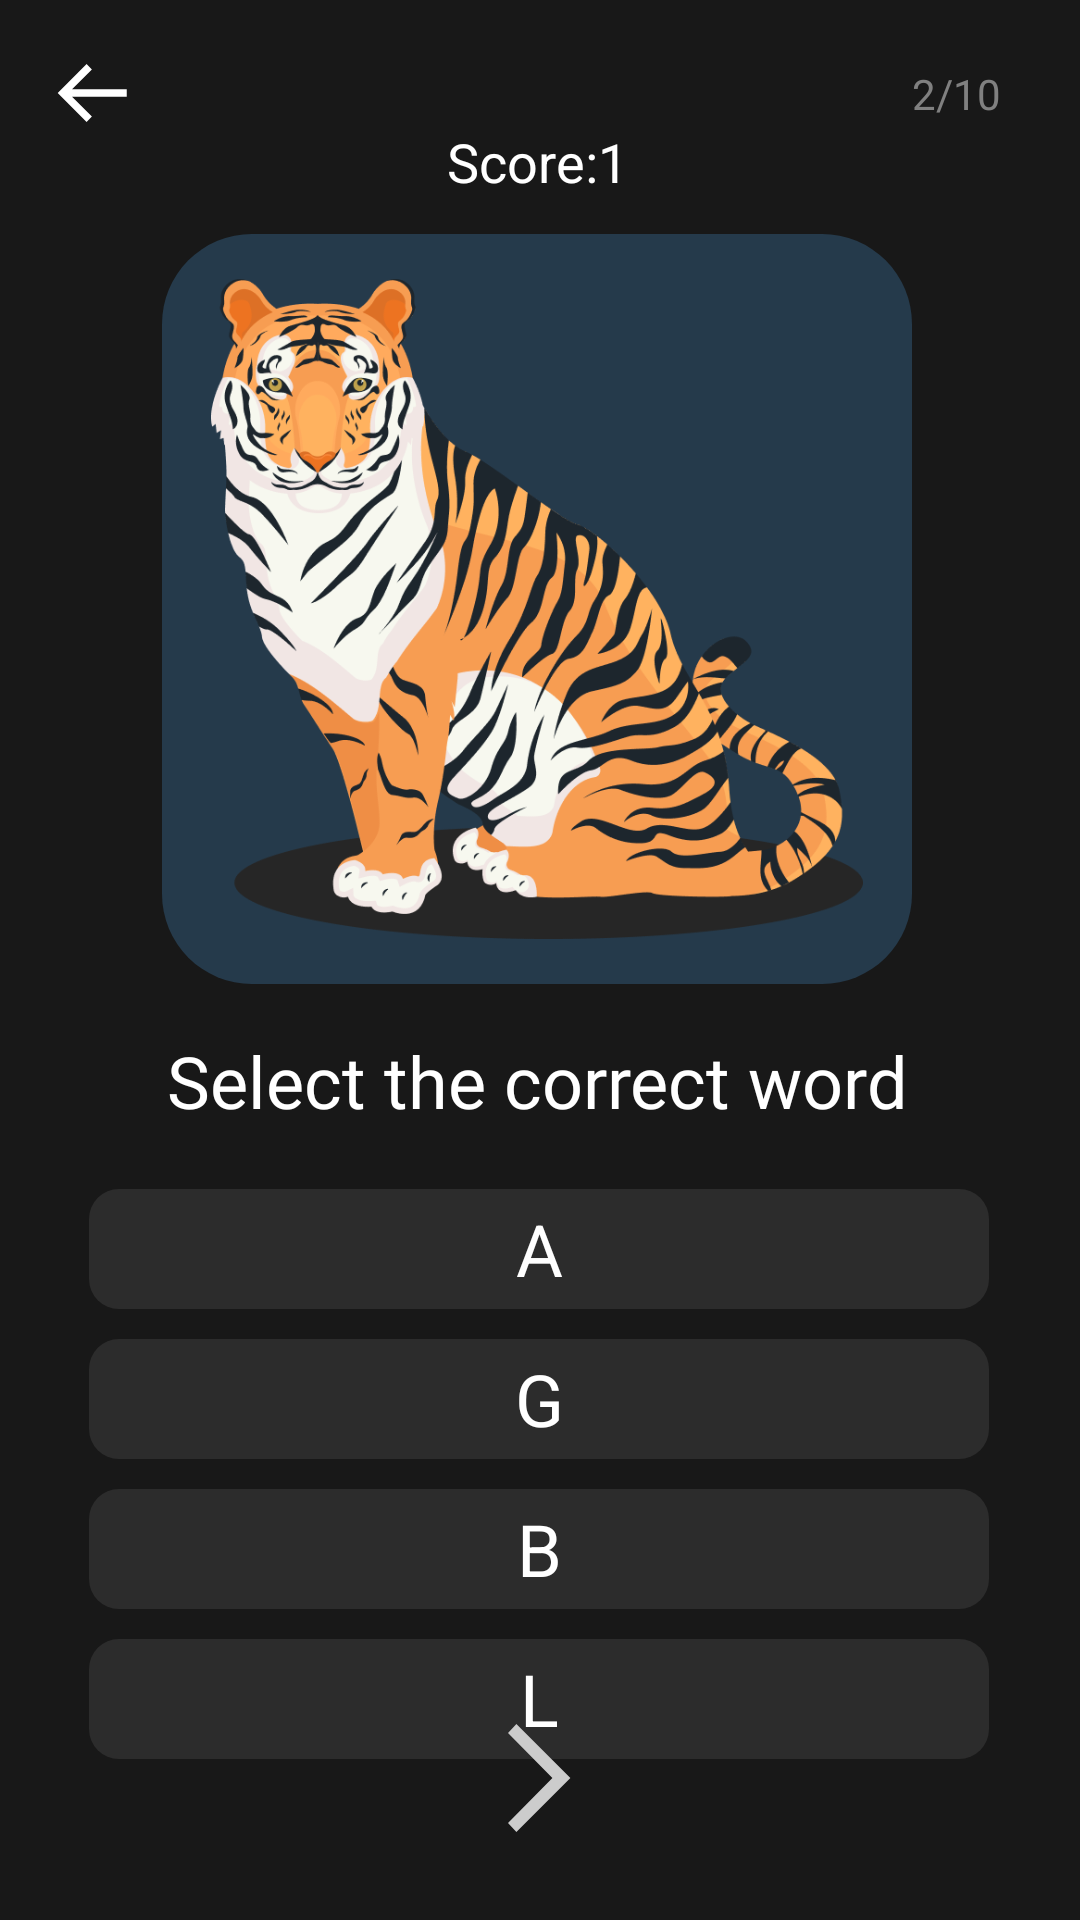

Named icons in this screenshot (1080w x 1920h) and their bounding boxes, (x1=x1, y1=y1, x2=x2, y2=y2):
back: (x1=58, y1=64, x2=127, y2=122)
next: (x1=508, y1=1724, x2=570, y2=1832)
